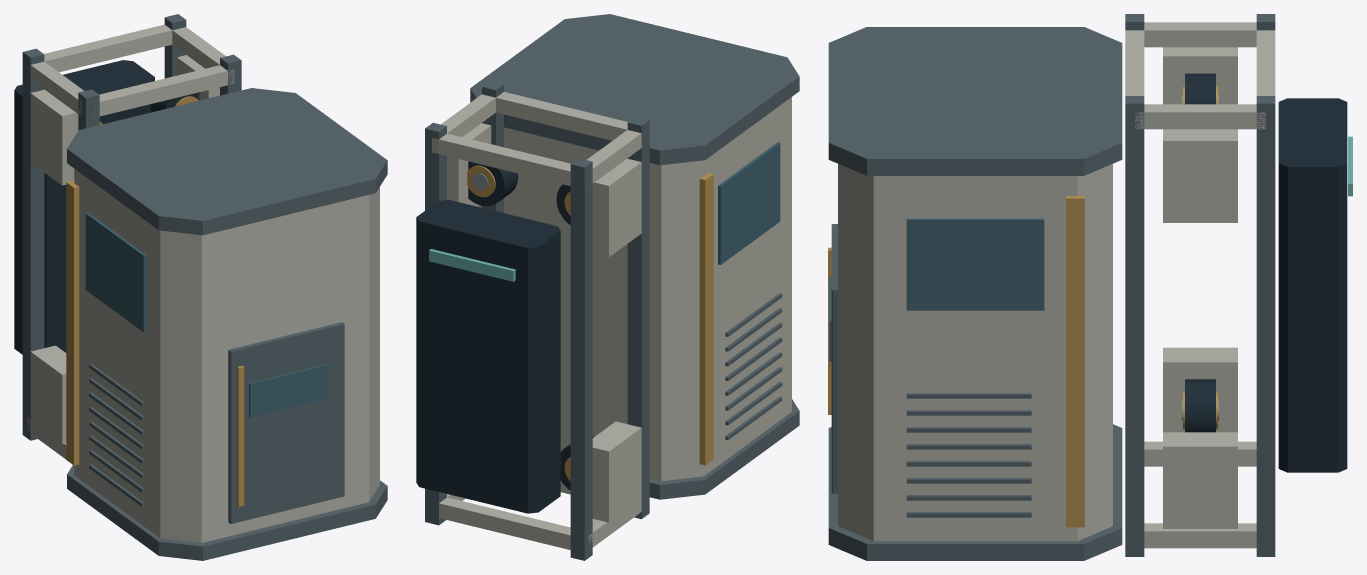
Rendered from climber_d0_lod0.glb.
3 renders of one model, left to right at view 1: azimuth 30°, elevation 25°; view 2: azimuth 150°, elevation 25°; view 3: azimuth 270°, elevation 25°, orthographic. The views are drawn at different scales.
Visible parts, largest first — view 1: CLIMBER_STRUCTURE, CLIMBER_HATCH_SURFACE; view 2: CLIMBER_STRUCTURE, ROLLER_R_HIGH_SURFACE; view 3: CLIMBER_STRUCTURE, CLIMBER_HATCH_SURFACE, ROLLER_L_LOW_SURFACE, ROLLER_L_HIGH_SURFACE.
Boxes of the visible parts, x1,y1,x2,y2 form: CLIMBER_STRUCTURE: (14,14,387,560); CLIMBER_HATCH_SURFACE: (228,322,344,523); CLIMBER_STRUCTURE: (416,14,799,560); ROLLER_R_HIGH_SURFACE: (467,161,518,206); CLIMBER_STRUCTURE: (828,14,1352,560); CLIMBER_HATCH_SURFACE: (828,224,837,493); ROLLER_L_LOW_SURFACE: (1182,379,1218,432); ROLLER_L_HIGH_SURFACE: (1182,73,1218,104).
Bounding box in the file's own units: 5.02 × 8 × 8.4.
